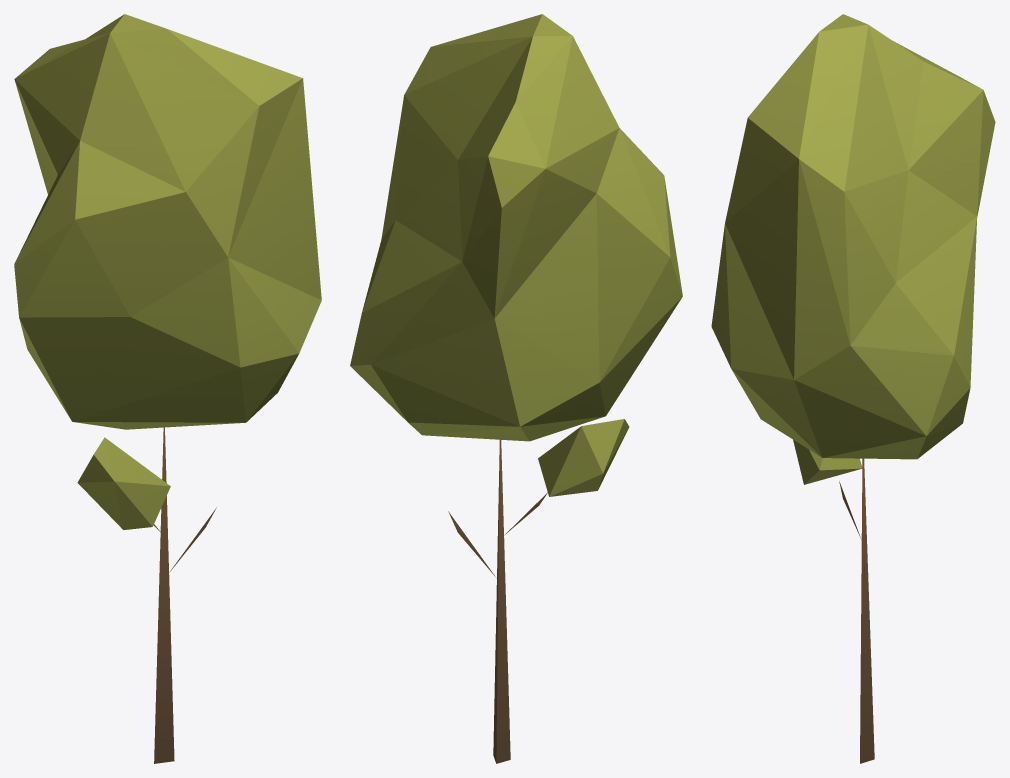
File: tree_08.glb
3 views of the same model, side by side, from view 1: azimuth 30°, elevation 25°; view 2: azimuth 150°, elevation 25°; view 3: azimuth 270°, elevation 25° (orthographic). The views are drawn at different scales.
Visible parts, largest first — view 1: Spring_Tree_08_LOD1; view 2: Spring_Tree_08_LOD1; view 3: Spring_Tree_08_LOD1.
Boxes of the visible parts, x1,y1,x2,y2 form: Spring_Tree_08_LOD1: (14, 14, 321, 763); Spring_Tree_08_LOD1: (350, 14, 682, 763); Spring_Tree_08_LOD1: (711, 14, 995, 763).
Size of the model in its own units: 2.7 by 6.59 by 2.36.
1 material, 1 textured.
